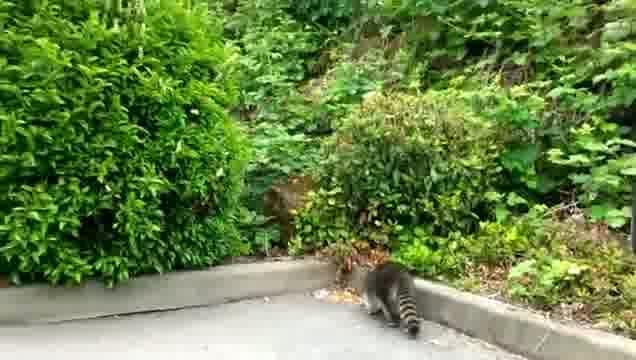raccoon: (360, 261, 429, 337)
